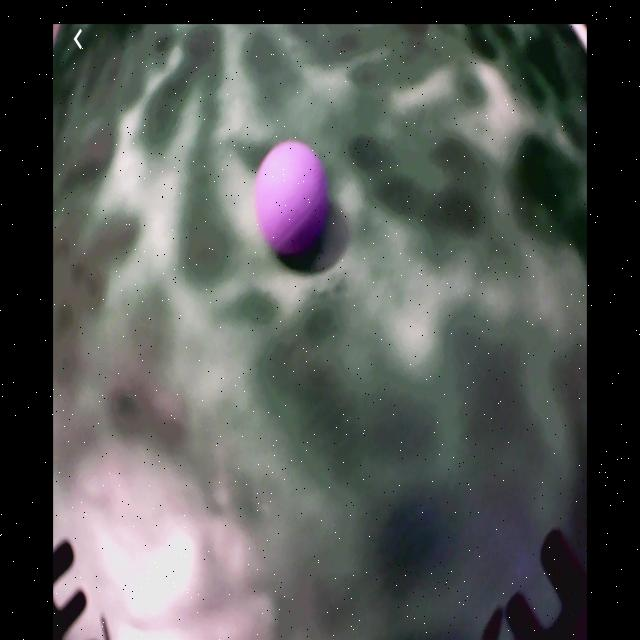ball: (258, 141, 326, 259)
